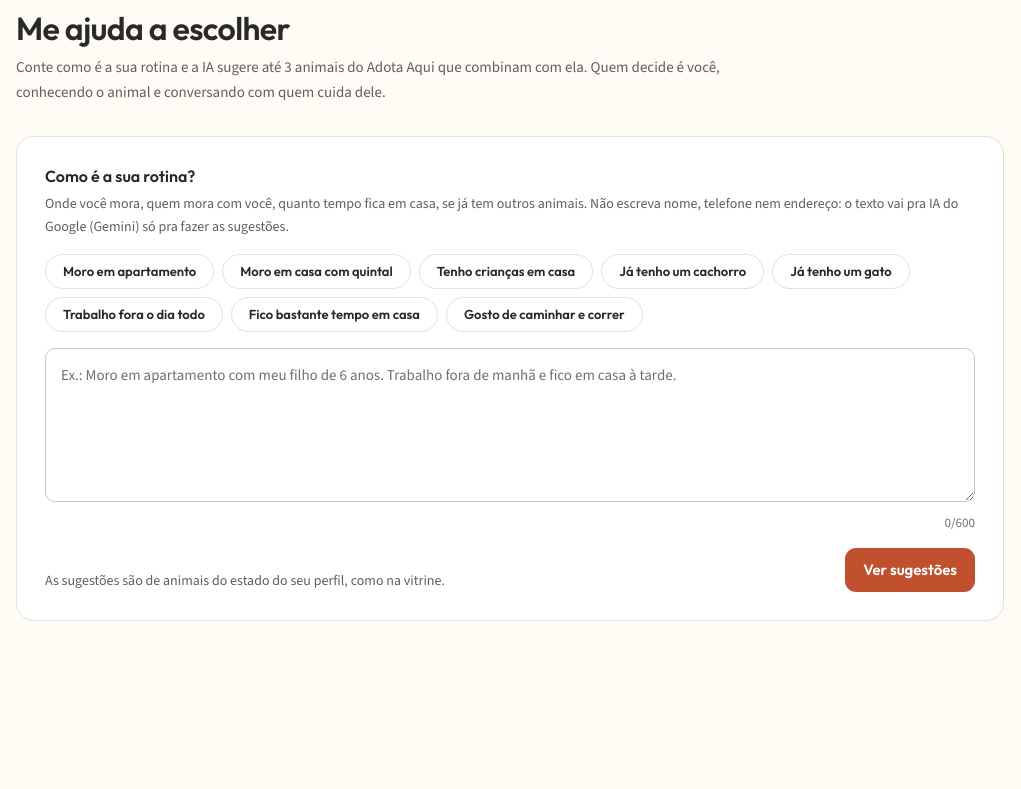
Test: pessoa logada não escolhe estado: vale o do perfil
Check: the text "estado do seu perfil" is shown, box [45, 571, 445, 590]
Replace the text in the text box labelled "Como é a sua rotina?" with "Moro em apartamento e trabalho fora de manhã." at [510, 425], box [45, 348, 975, 502]
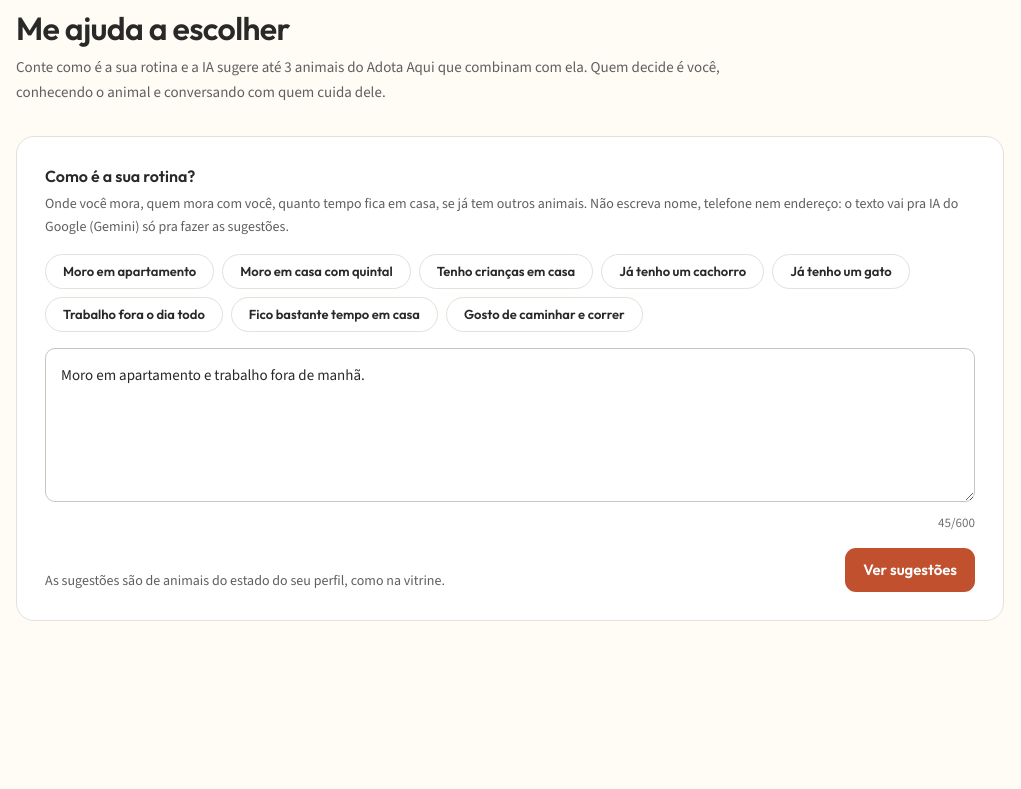
Click the button "Ver sugestões".
click(910, 570)  # box [845, 548, 975, 592]
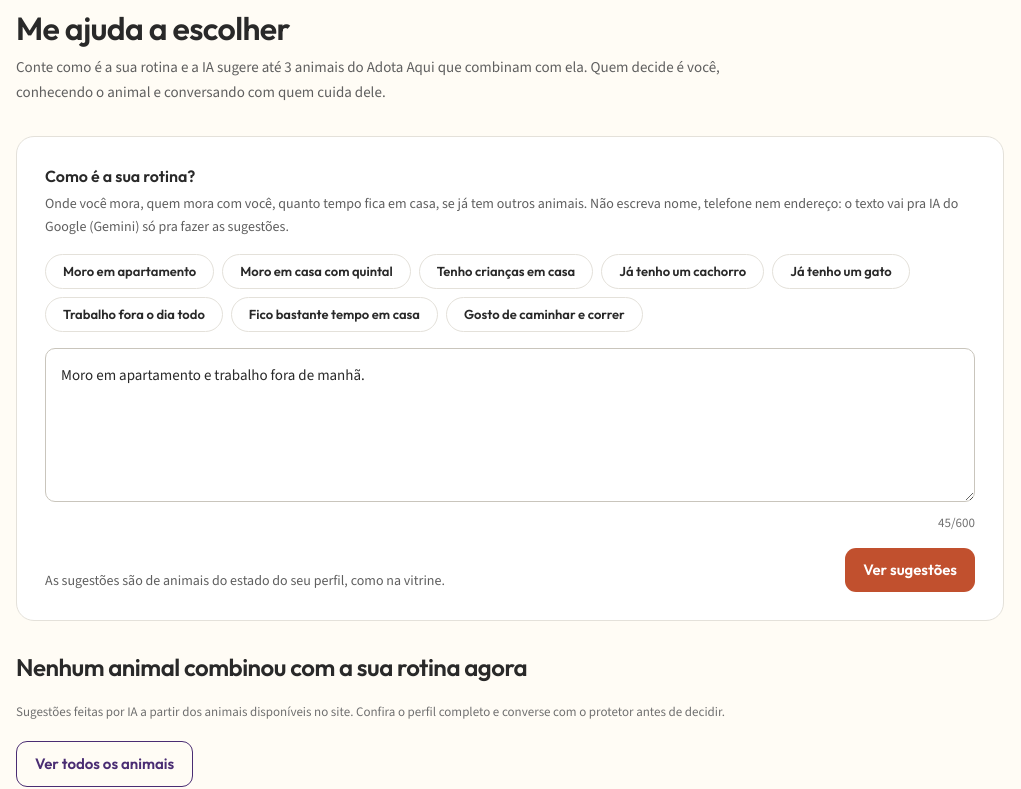
Check: the heading "Nenhum animal combinou com a sua rotina agora" is shown, box [16, 652, 527, 682]
